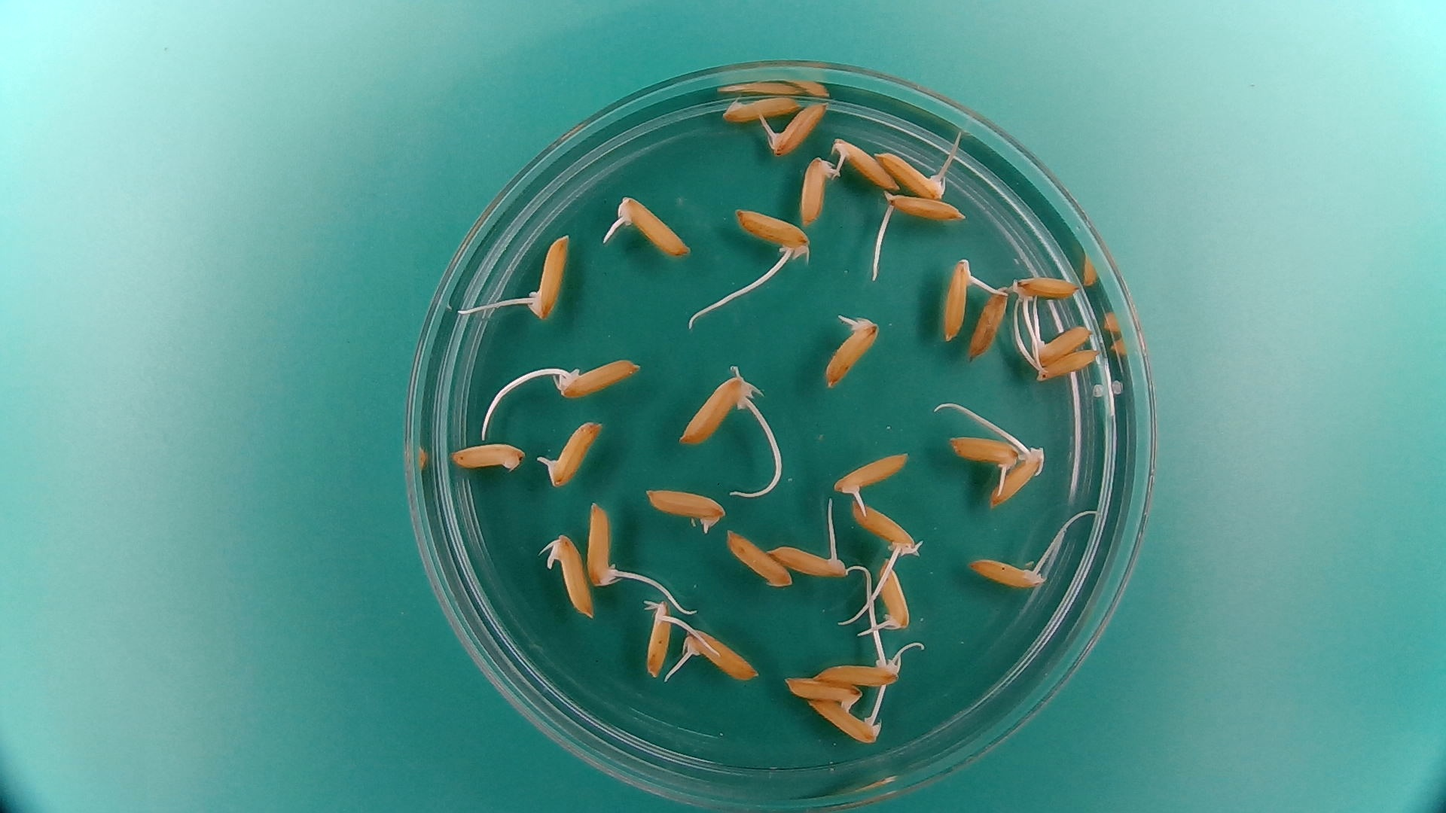no: (724, 526, 794, 589), (969, 286, 1008, 365), (779, 675, 865, 708), (449, 442, 529, 475), (718, 92, 803, 123)
yes: (682, 374, 752, 448), (821, 309, 883, 391), (829, 446, 912, 504), (616, 195, 691, 259), (640, 482, 727, 535), (545, 353, 642, 400), (682, 629, 760, 687), (849, 500, 926, 558), (545, 416, 606, 488), (759, 98, 831, 157), (526, 230, 572, 320), (802, 696, 884, 745), (547, 536, 593, 620), (987, 446, 1047, 510), (828, 137, 899, 190), (766, 537, 851, 579), (736, 208, 811, 255), (877, 154, 947, 202), (797, 153, 840, 227), (942, 255, 976, 340), (813, 654, 900, 687), (886, 190, 966, 225), (1030, 319, 1090, 363), (587, 499, 617, 587), (966, 558, 1044, 591), (1034, 346, 1104, 382), (1011, 266, 1082, 301), (947, 433, 1021, 464), (877, 562, 911, 629), (646, 599, 673, 681)
